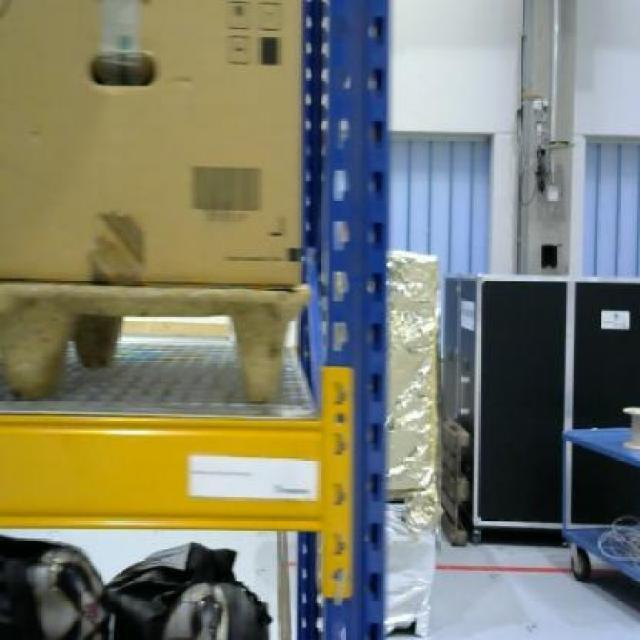box: (0, 0, 303, 286)
